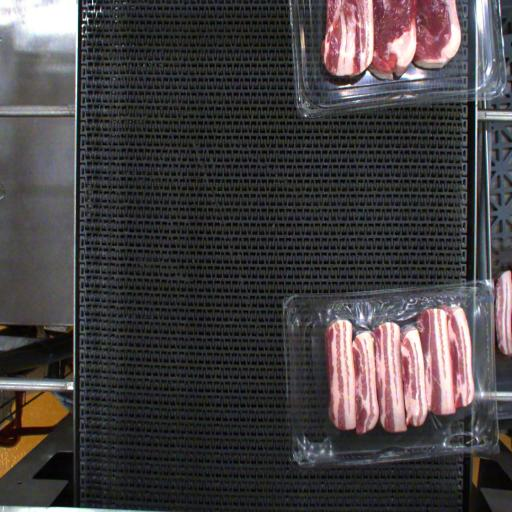unsealed: (280, 287, 498, 456)
